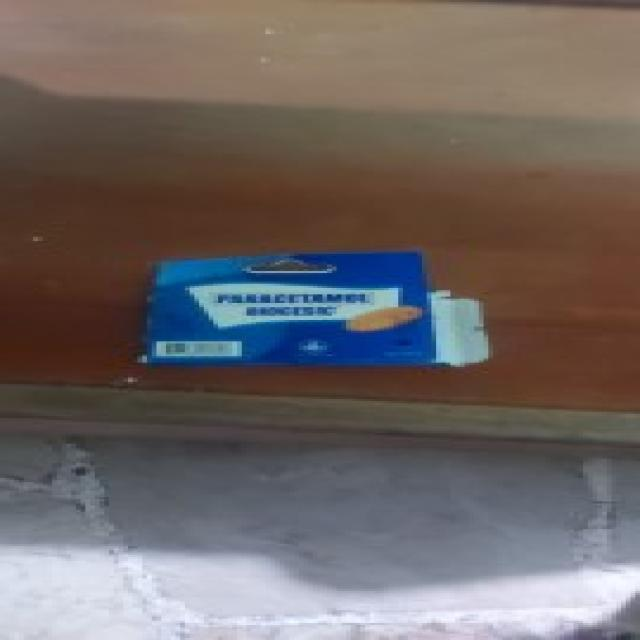Cacat: (132, 243, 496, 373)
Kemasan: (420, 288, 491, 367)
